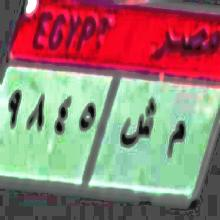4: (53, 95, 71, 140)
5: (79, 101, 97, 136)
8: (26, 92, 46, 142)
9: (6, 84, 21, 140)
meem: (166, 114, 186, 169)
sheen: (122, 94, 156, 156)
